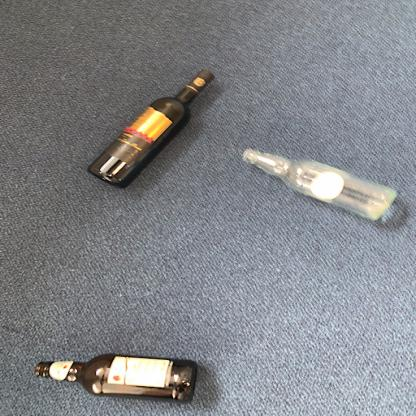trash: (89, 67, 224, 188), (235, 144, 400, 224), (32, 352, 200, 406)
